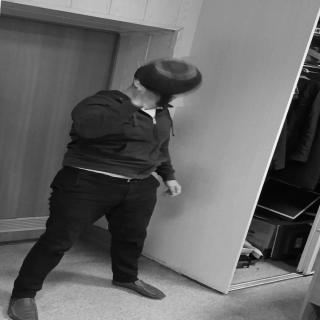kettlebell: (134, 58, 211, 110)
